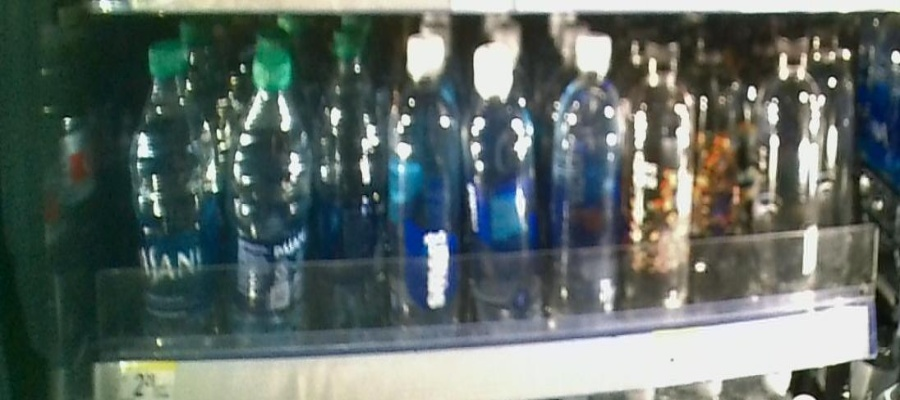bottle: (224, 42, 315, 345), (131, 29, 217, 345), (548, 31, 622, 321), (390, 38, 464, 327), (468, 39, 539, 333), (322, 31, 384, 344), (630, 38, 692, 314)
